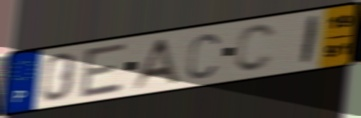0: (40, 50, 79, 104)
A: (128, 36, 182, 92)
C: (232, 22, 279, 74), (185, 32, 222, 82)
E: (78, 40, 130, 101)
I: (298, 13, 322, 68)
